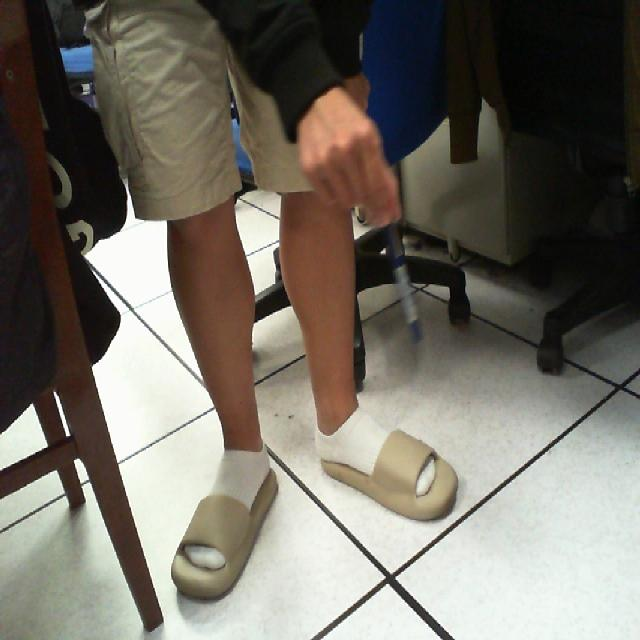Pen: (367, 192, 429, 350)
